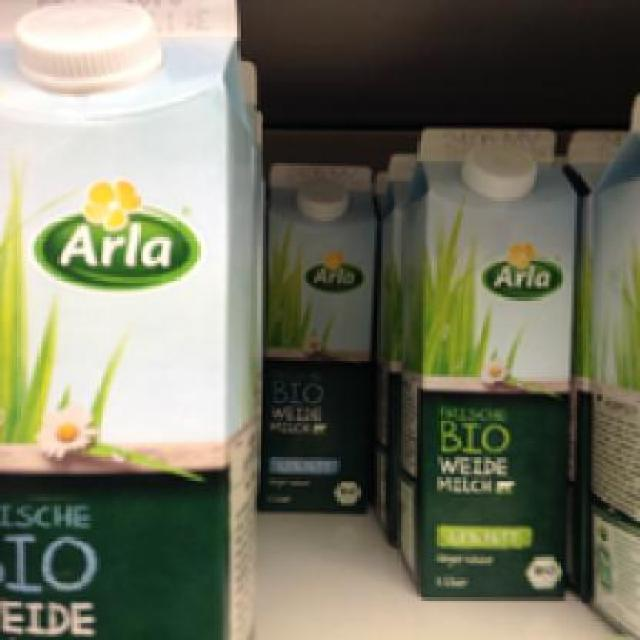Milk: (0, 0, 252, 638), (388, 111, 572, 600), (266, 162, 377, 515)
